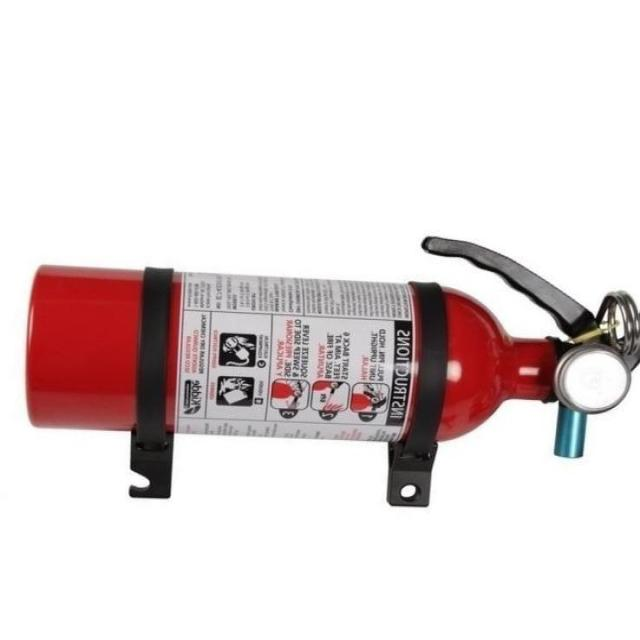fire_extinguisher: (19, 227, 639, 464)
